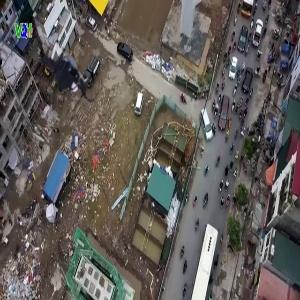drone: (24, 32, 109, 117)
